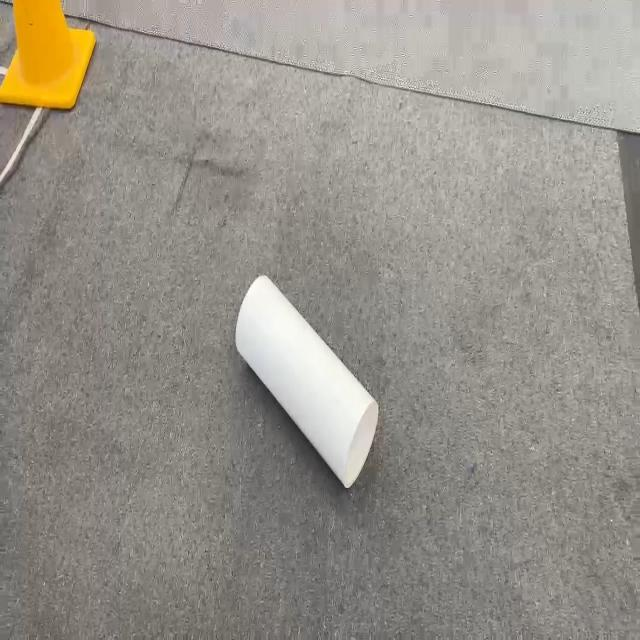coral: (234, 273, 379, 489)
